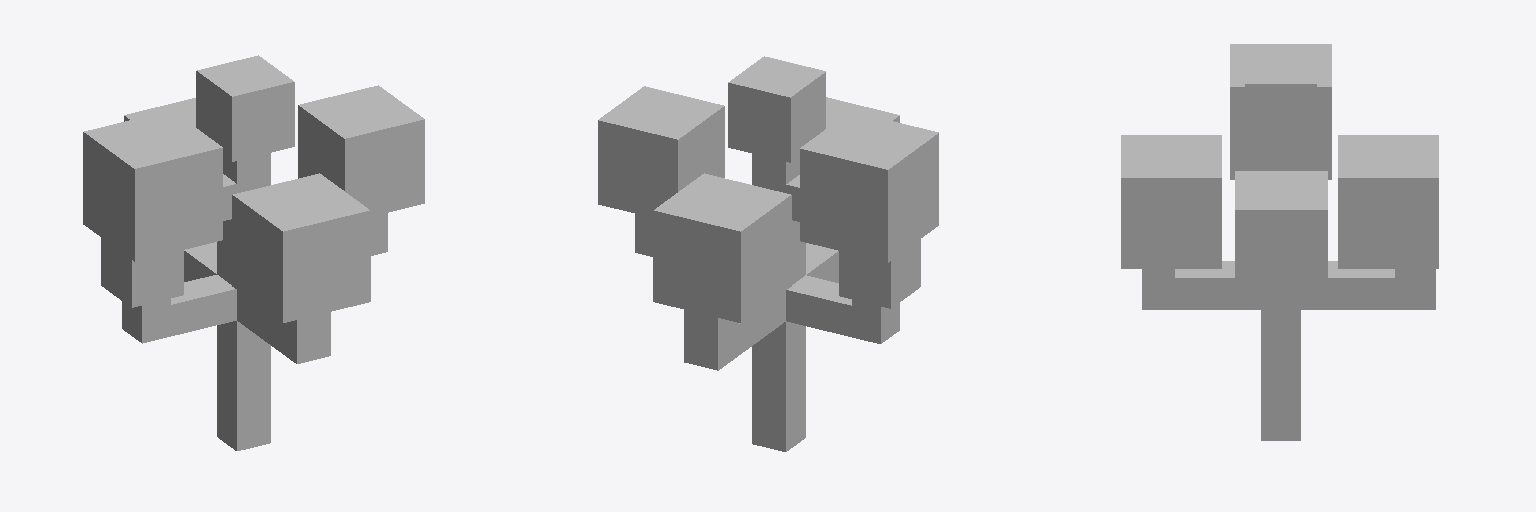
The model's file is Natures_Cube Tree.obj.
The picture shows the model from 3 angles: view 1: azimuth 30°, elevation 25°; view 2: azimuth 150°, elevation 25°; view 3: azimuth 270°, elevation 25°; orthographic projection.
Visible parts, largest first — view 1: Natures_Cube_Tree; view 2: Natures_Cube_Tree; view 3: Natures_Cube_Tree.
Boxes of the visible parts, x1=… form: Natures_Cube_Tree: x1=83, y1=55, x2=424, y2=450; Natures_Cube_Tree: x1=598, y1=56, x2=938, y2=451; Natures_Cube_Tree: x1=1121, y1=44, x2=1438, y2=440.
Bounding box in the file's own units: 134 × 159 × 126.